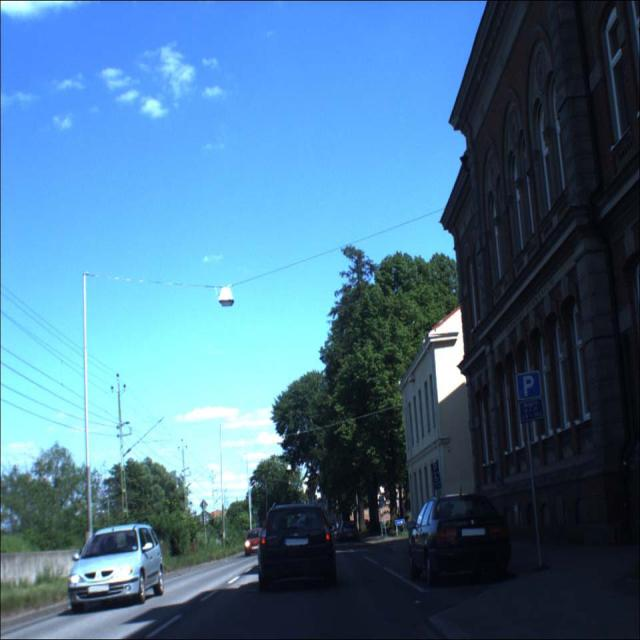park: (516, 371, 543, 400)
